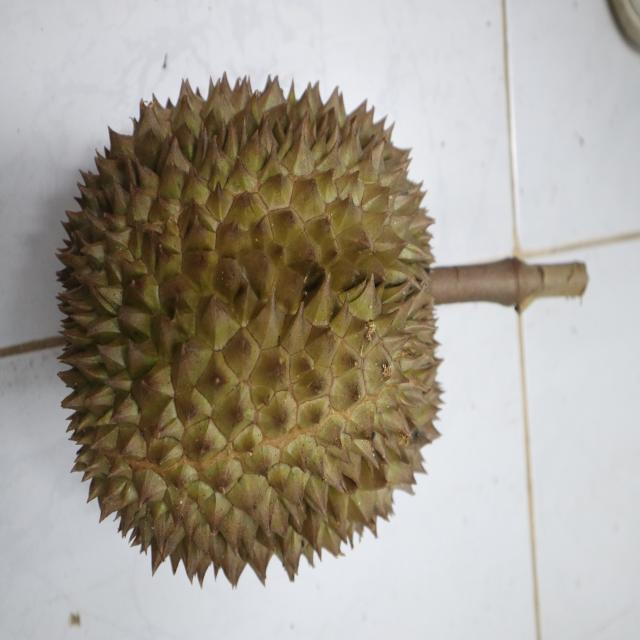mature: (56, 66, 448, 596)
